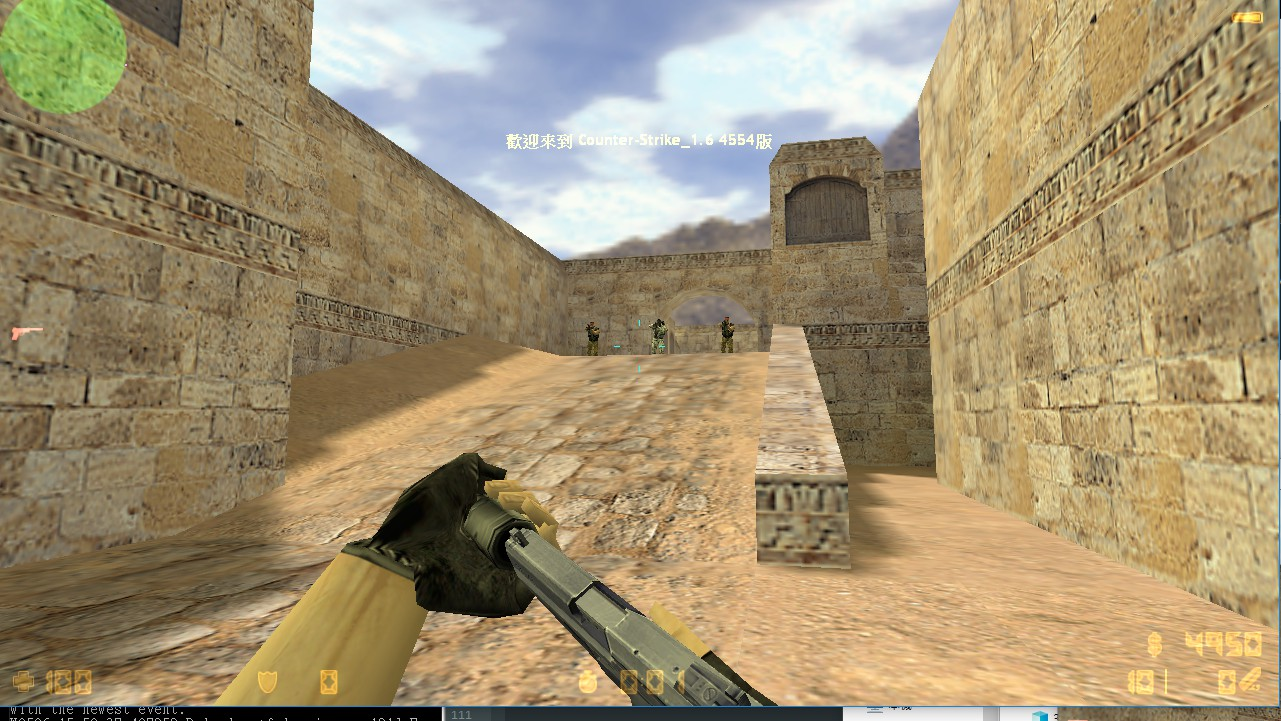person: (647, 316, 667, 354), (718, 315, 735, 353), (583, 319, 600, 356)
